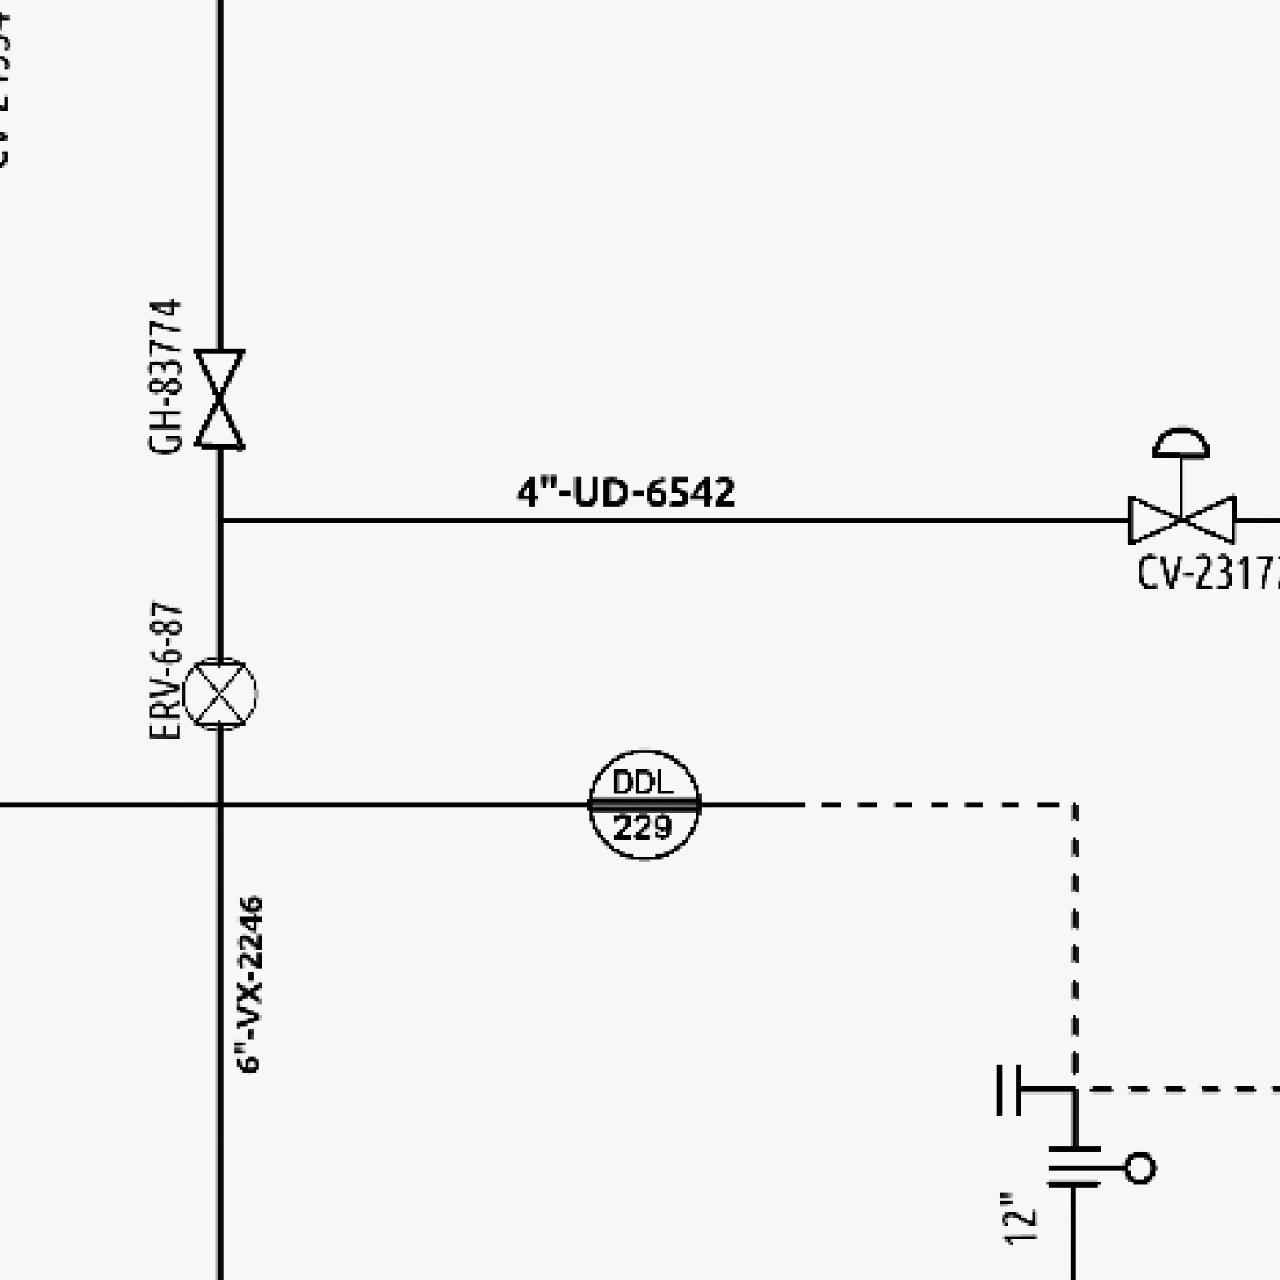Control-Panel: (580, 742, 707, 865)
